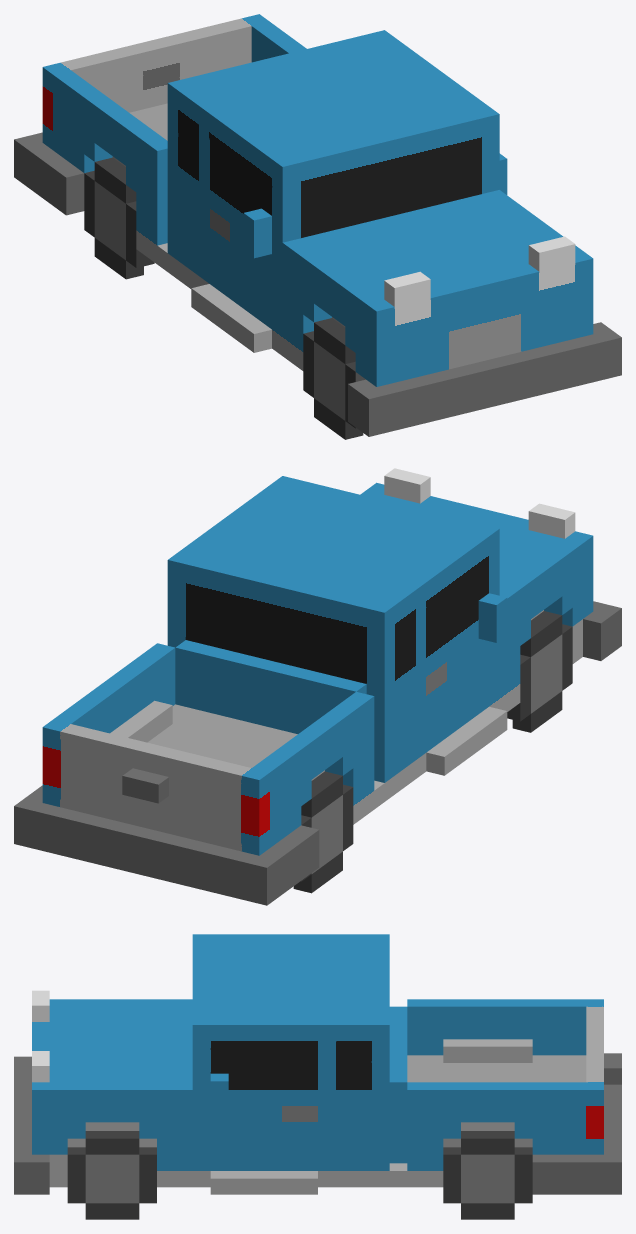
Rendered from veh_truck5.dae.
The picture shows the model from 3 angles, top to bottom: view 1: azimuth 30°, elevation 25°; view 2: azimuth 150°, elevation 25°; view 3: azimuth 270°, elevation 25°; orthographic projection. The views are drawn at different scales.
Parts seen in each view (by area): view 1: veh_truck5; view 2: veh_truck5; view 3: veh_truck5.
Part boxes in pixels (x1,y1,x2,y2): veh_truck5: [14, 14, 621, 439]; veh_truck5: [14, 468, 621, 905]; veh_truck5: [14, 934, 621, 1219].
Size of the model in its own units: 1.4 by 3.4 by 1.2.
1 material, 1 textured.
